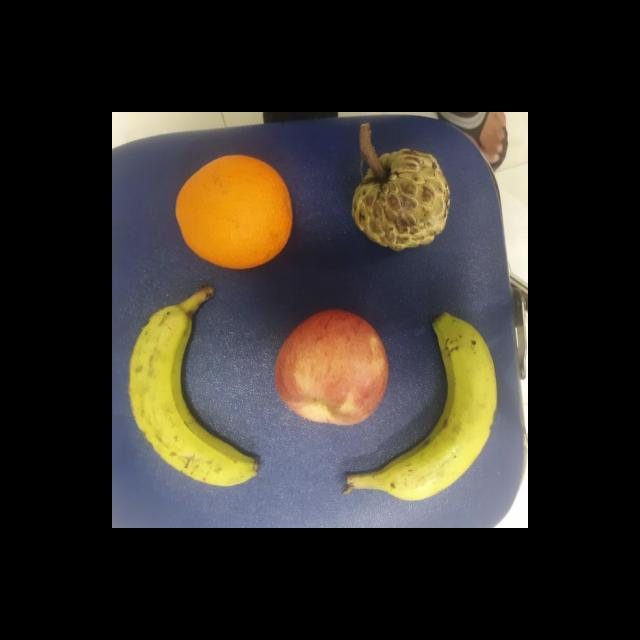Sakya fruit: (352, 148, 451, 251)
apple: (274, 311, 389, 427)
banana: (342, 313, 496, 502), (126, 285, 260, 487)
orange: (174, 153, 294, 270)
